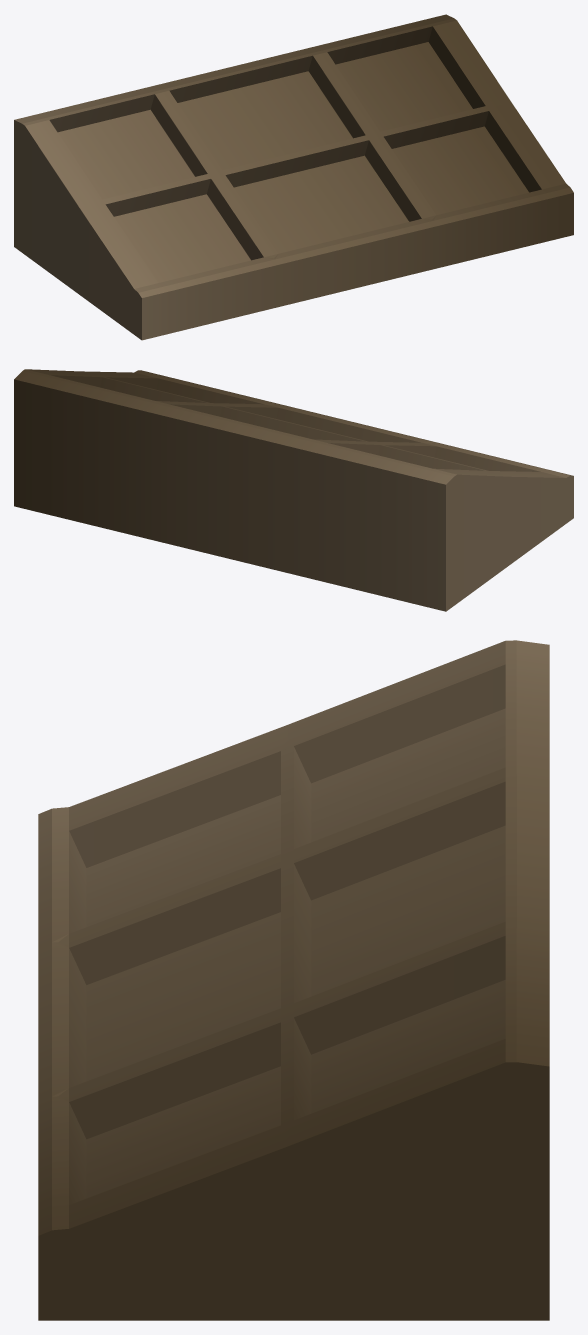
Rendered from MarketStall_Tray_6.fbx.
The picture shows the model from 3 angles, top to bottom: view 1: azimuth 30°, elevation 25°; view 2: azimuth 150°, elevation 25°; view 3: azimuth 270°, elevation 25°; orthographic projection. The views are drawn at different scales.
Parts seen in each view (by area): view 1: MarketStall_Tray_6; view 2: MarketStall_Tray_6; view 3: MarketStall_Tray_6.
Part boxes in pixels (x1,y1,x2,y2): MarketStall_Tray_6: [14, 14, 573, 340]; MarketStall_Tray_6: [14, 369, 573, 611]; MarketStall_Tray_6: [38, 640, 549, 1320].
Size of the model in its own units: 2.1 by 0.5996 by 1.08.
Materials: 1 (1 with a texture image).
